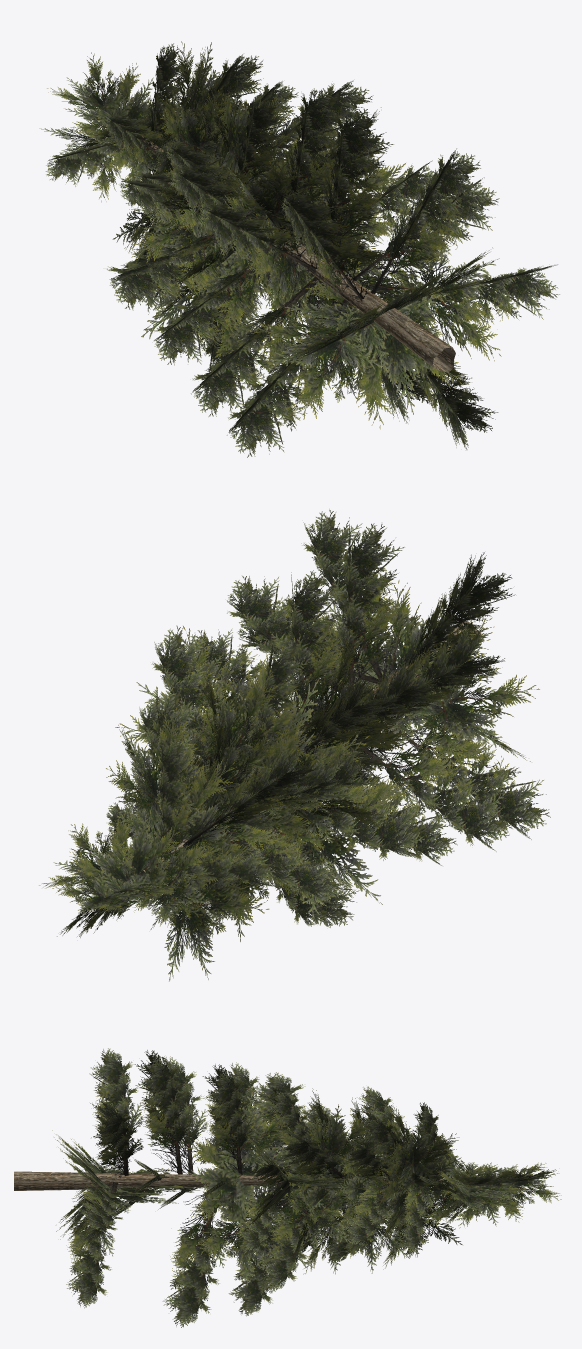
File: pine tree small fg 3.fbx
The picture shows the model from 3 angles, top to bottom: view 1: azimuth 30°, elevation 25°; view 2: azimuth 150°, elevation 25°; view 3: azimuth 270°, elevation 25°; orthographic projection. The views are drawn at different scales.
Visible parts, largest first — view 1: Cylinder_011; view 2: Cylinder_011; view 3: Cylinder_011.
Boxes of the visible parts, x1,y1,x2,y2 form: Cylinder_011: [39, 41, 559, 457]; Cylinder_011: [39, 509, 550, 981]; Cylinder_011: [14, 1048, 561, 1327].
Bounding box in the file's own units: 3.51 × 3.65 × 7.12.
